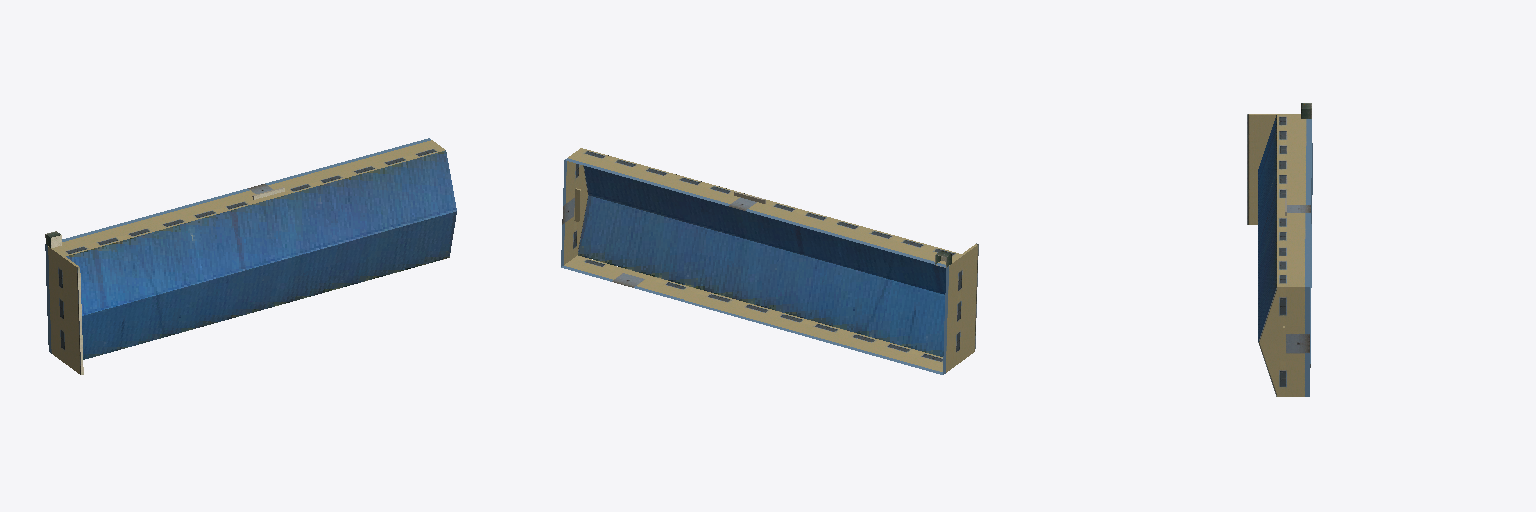
3 views of the same model, side by side, from view 1: azimuth 30°, elevation 25°; view 2: azimuth 150°, elevation 25°; view 3: azimuth 270°, elevation 25° (orthographic).
Parts seen in each view (by area): view 1: Group_MatrixTransform_i96159_Geometry_7, Group_MatrixTransform_i96159_Geometry_1, Group_MatrixTransform_i96159_Geometry_2; view 2: Group_MatrixTransform_i96159_Geometry_7, Group_MatrixTransform_i96159_Geometry_1, Group_MatrixTransform_i96159_Geometry_2, Group_MatrixTransform_i96159_Geometry_0; view 3: Group_MatrixTransform_i96159_Geometry_1, Group_MatrixTransform_i96159_Geometry_7, Group_MatrixTransform_i96159_Geometry_2, Group_MatrixTransform_i96159_Geometry_0.
Part boxes in pixels (bbox=[...]): Group_MatrixTransform_i96159_Geometry_7: bbox=[66, 150, 456, 359]; Group_MatrixTransform_i96159_Geometry_1: bbox=[45, 138, 444, 364]; Group_MatrixTransform_i96159_Geometry_2: bbox=[63, 257, 80, 374]; Group_MatrixTransform_i96159_Geometry_7: bbox=[578, 155, 945, 356]; Group_MatrixTransform_i96159_Geometry_1: bbox=[561, 148, 963, 374]; Group_MatrixTransform_i96159_Geometry_2: bbox=[574, 165, 978, 361]; Group_MatrixTransform_i96159_Geometry_0: bbox=[562, 186, 769, 289]; Group_MatrixTransform_i96159_Geometry_1: bbox=[1277, 114, 1312, 396]; Group_MatrixTransform_i96159_Geometry_7: bbox=[1258, 115, 1276, 341]; Group_MatrixTransform_i96159_Geometry_2: bbox=[1247, 114, 1284, 396]; Group_MatrixTransform_i96159_Geometry_0: bbox=[1277, 202, 1310, 367].
Size of the model in its own units: 61.75 by 18.48 by 8.98.
9 materials, 9 textured.